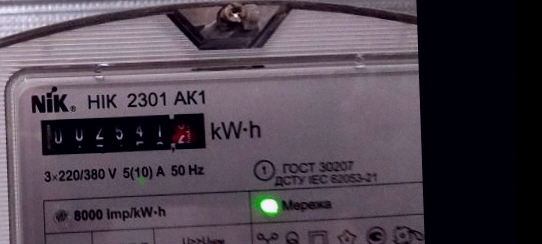0: (50, 123, 64, 145), (71, 120, 84, 142)
1: (152, 116, 164, 139)
2: (91, 119, 106, 141)
4: (132, 116, 144, 138)
5: (111, 118, 125, 141)
6: (175, 131, 186, 143)
screen: (27, 102, 218, 162)
